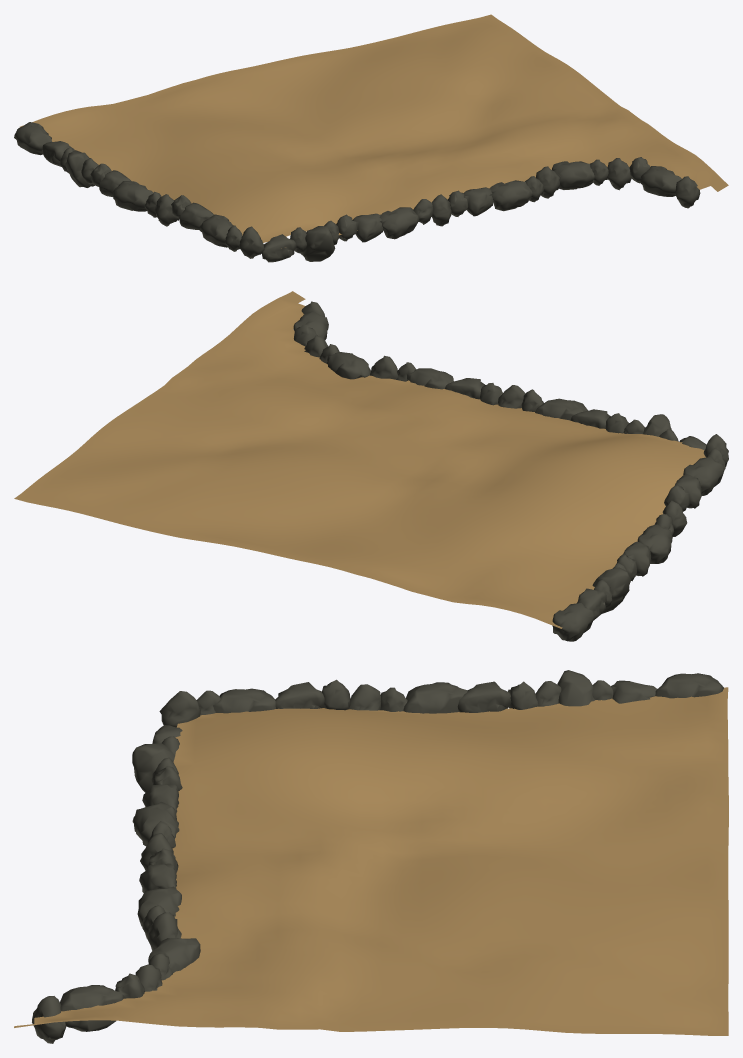
File: big_ground_01.fbx
3 renders of one model, top to bottom at view 1: azimuth 30°, elevation 25°; view 2: azimuth 150°, elevation 25°; view 3: azimuth 270°, elevation 25°, orthographic. The views are drawn at different scales.
Visible parts, largest first — view 1: polySurface_big_ground_01; view 2: polySurface_big_ground_01; view 3: polySurface_big_ground_01.
Boxes of the visible parts, box(x1,y1,x2,y2) form: polySurface_big_ground_01: box(14, 14, 728, 262); polySurface_big_ground_01: box(14, 291, 728, 641); polySurface_big_ground_01: box(14, 670, 728, 1043).
Size of the model in its own units: 25269 by 2426 by 21652.
